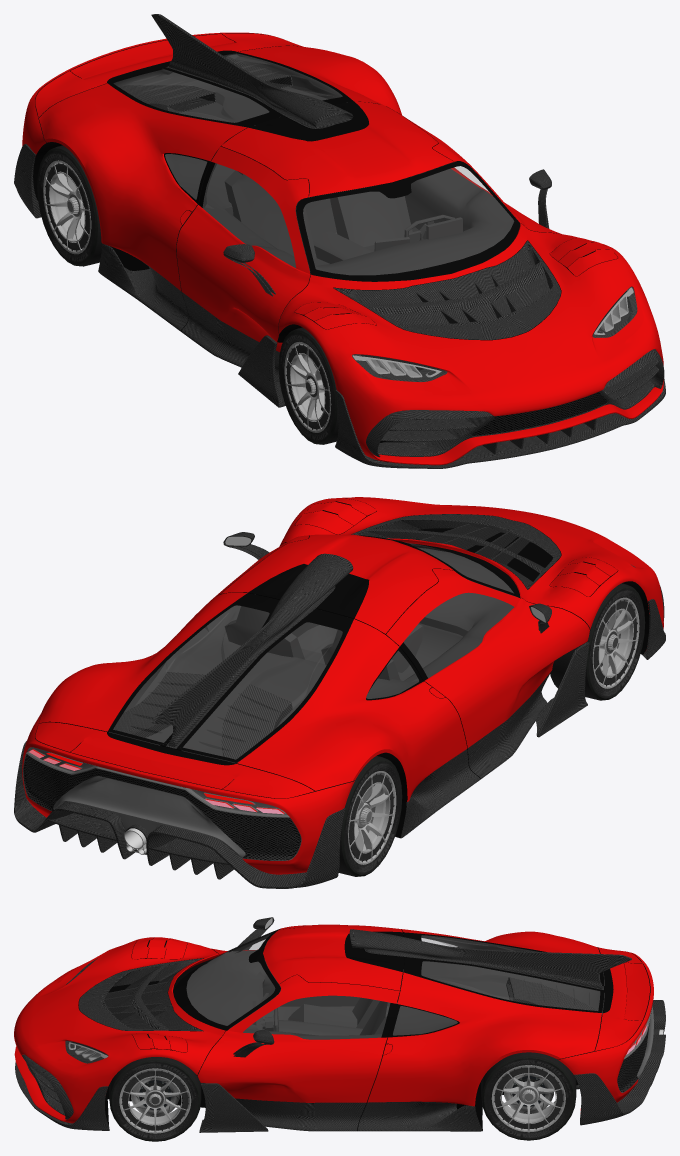
The model's file is mercedes-amg-one.glb.
3 views of the same model, one above another, from view 1: azimuth 30°, elevation 25°; view 2: azimuth 150°, elevation 25°; view 3: azimuth 270°, elevation 25° (orthographic). The views are drawn at different scales.
Visible parts, largest first — view 1: body_0010, body_0017, body_0000, glass_0032, body_0018, body_0013, body_0028, body_0168, glass_0038, body_0014, body_0101, body_0031 (+31 smaller); view 2: body_0017, body_0000, body_0018, body_0010, body_0013, glass_0037, body_0168, body_0014, body_0009, glass_0034, body_0159, body_0158 (+41 smaller); view 3: body_0009, body_0010, body_0011, body_0000, body_0013, body_0168, glass_0035, glass_0032, glass_0034, body_0025, body_0014, body_0028 (+43 smaller).
Part boxes in pixels (left/top/right/bottom): body_0010: left=278, top=223, right=663, bottom=465; body_0017: left=39, top=83, right=247, bottom=290; body_0000: left=113, top=52, right=514, bottom=275; glass_0032: left=303, top=166, right=513, bottom=274; body_0018: left=176, top=146, right=310, bottom=351; body_0013: left=221, top=101, right=453, bottom=197; body_0028: left=334, top=240, right=561, bottom=339; body_0168: left=151, top=14, right=353, bottom=128; glass_0038: left=203, top=164, right=295, bottom=267; body_0014: left=35, top=33, right=303, bottom=117; body_0101: left=335, top=378, right=665, bottom=468; body_0031: left=366, top=262, right=549, bottom=324; body_0017: left=237, top=619, right=467, bottom=801; body_0000: left=109, top=547, right=515, bottom=763; body_0018: left=386, top=569, right=589, bottom=747; body_0010: left=280, top=497, right=663, bottom=629; body_0013: left=221, top=534, right=453, bottom=633; glass_0037: left=184, top=623, right=341, bottom=758; body_0168: left=151, top=553, right=353, bottom=746; body_0014: left=35, top=722, right=314, bottom=798; body_0009: left=39, top=592, right=247, bottom=731; glass_0034: left=114, top=606, right=268, bottom=742; body_0159: left=23, top=754, right=300, bottom=860; body_0158: left=23, top=753, right=301, bottom=860; body_0009: left=367, top=972, right=601, bottom=1106; body_0010: left=14, top=937, right=226, bottom=1123; body_0011: left=197, top=975, right=399, bottom=1102; body_0000: left=186, top=934, right=604, bottom=1039; body_0013: left=263, top=924, right=402, bottom=990; body_0168: left=349, top=929, right=631, bottom=988; glass_0035: left=243, top=996, right=389, bottom=1038; glass_0032: left=187, top=932, right=274, bottom=1025; glass_0034: left=422, top=962, right=599, bottom=1010; body_0025: left=357, top=1101, right=482, bottom=1131; body_0014: left=595, top=947, right=650, bottom=1050; body_0028: left=79, top=958, right=203, bottom=1031.
Size of the model in its own units: 2.1 by 1.22 by 4.76.
Materials: 40 (23 with a texture image).
